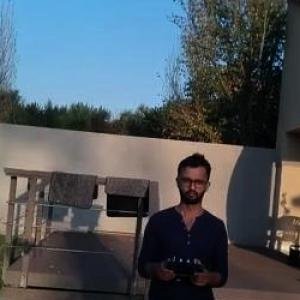follow: (132, 143, 233, 299)
